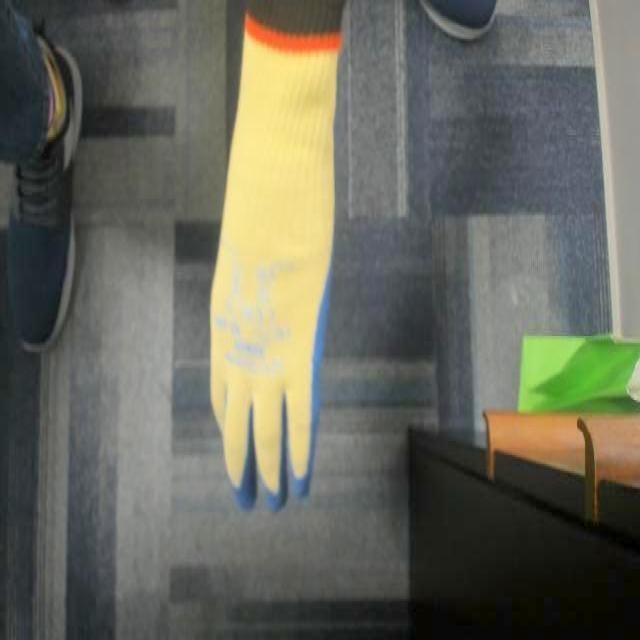Guantes: (212, 3, 379, 548)
